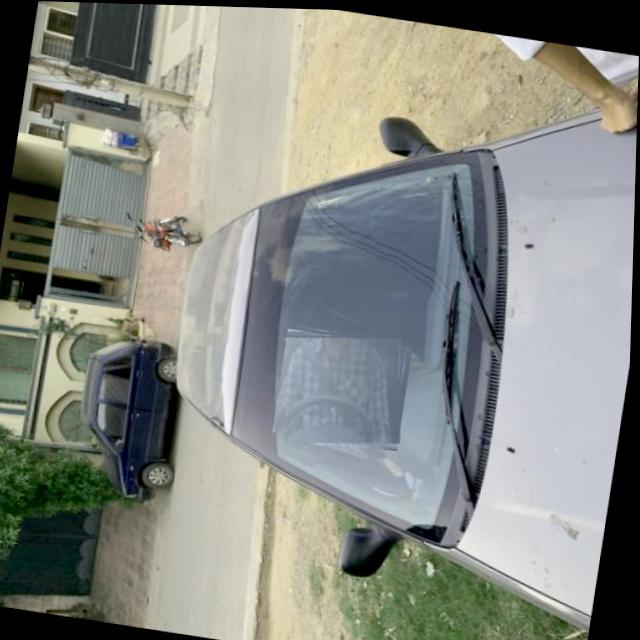seatbelt: (274, 317, 414, 457)
